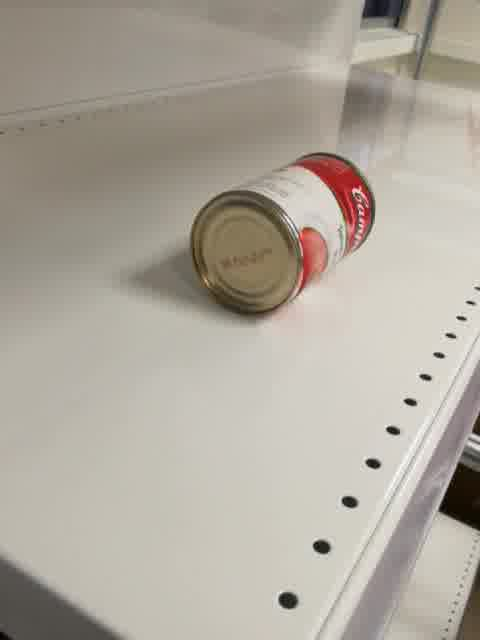tomatosoup: (187, 150, 378, 318)
